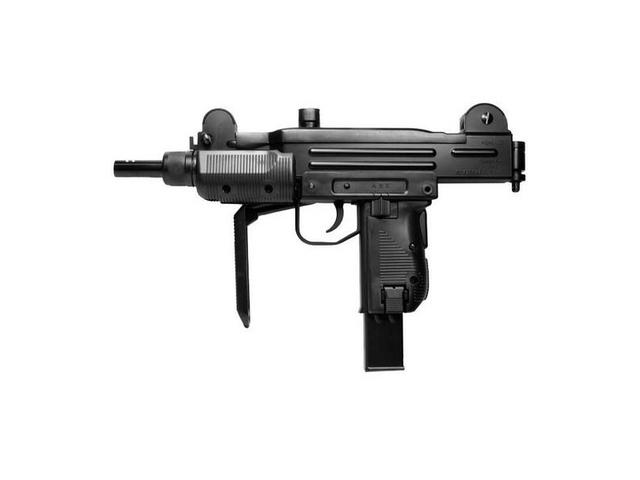pistol: (102, 100, 534, 389)
